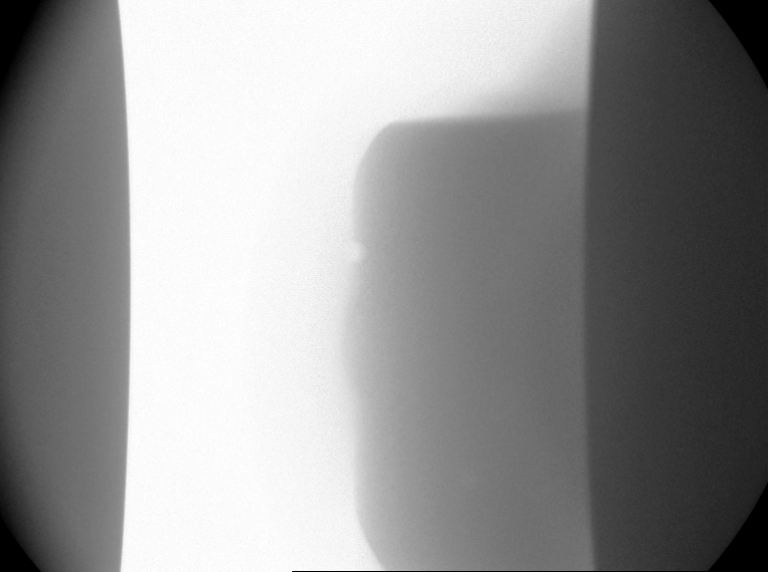defect: (347, 240, 374, 268)
